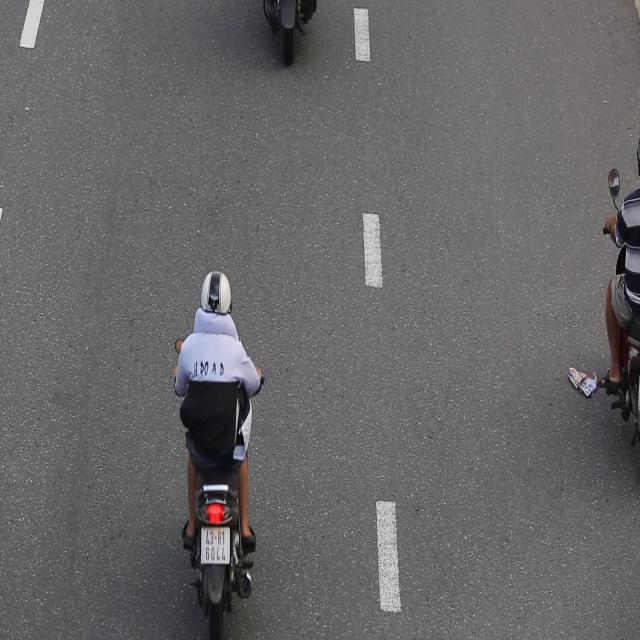motorbike: (171, 256, 267, 640)
